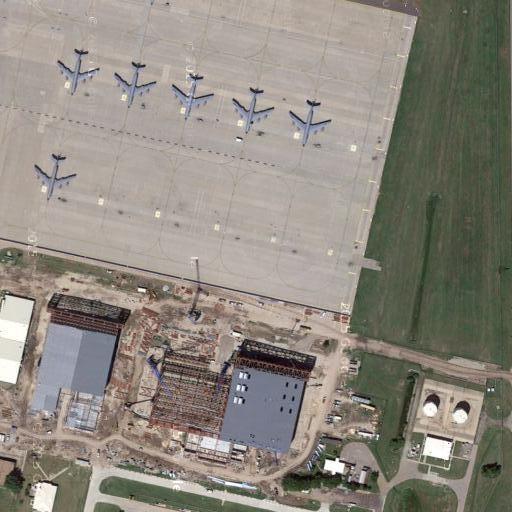KC-135: (30, 151, 81, 205), (230, 83, 278, 139), (286, 96, 335, 150), (113, 56, 156, 114), (56, 45, 101, 98), (168, 71, 215, 120)
